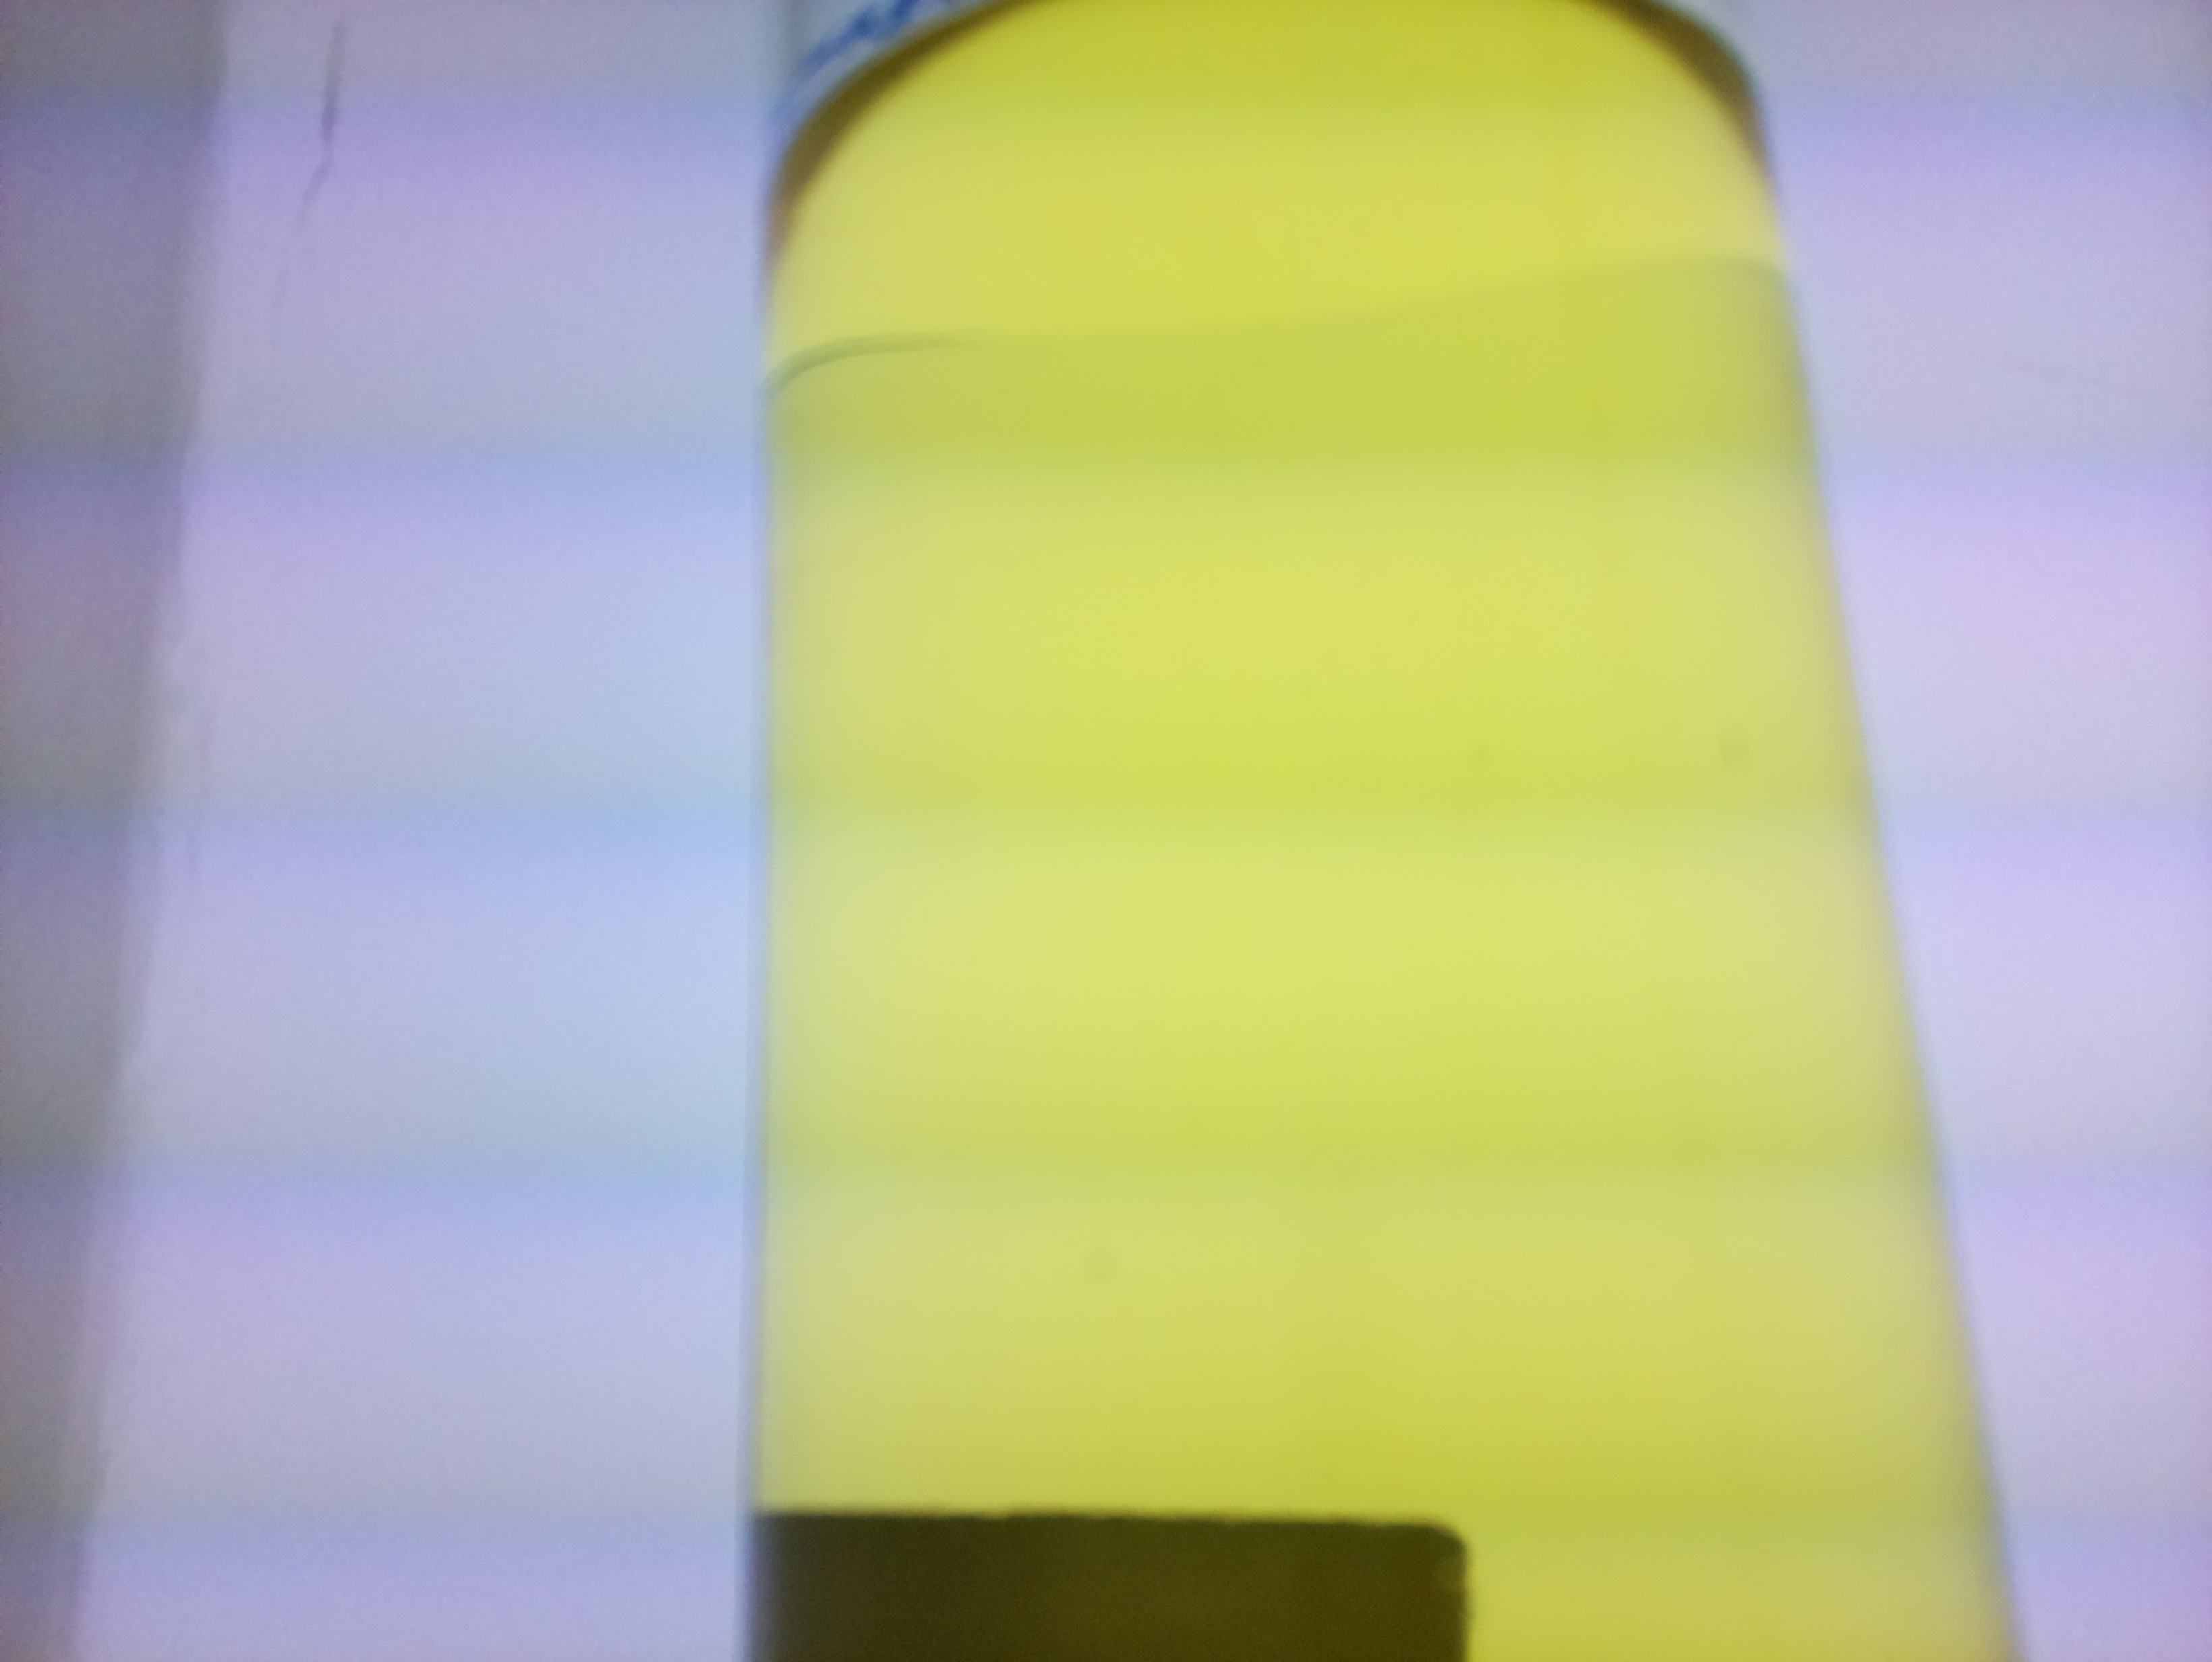colored_area: (745, 10, 2011, 1639)
